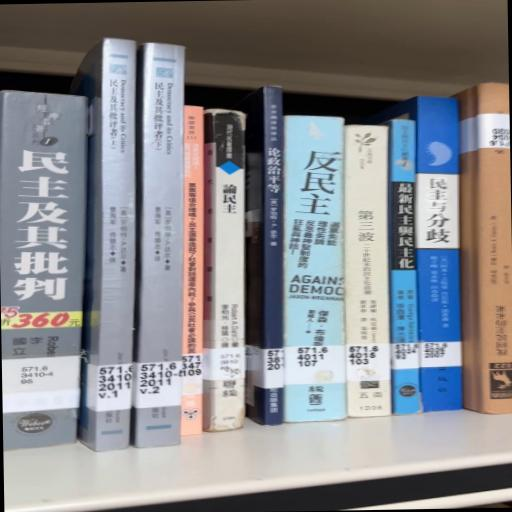reverse: (453, 83, 512, 414)
